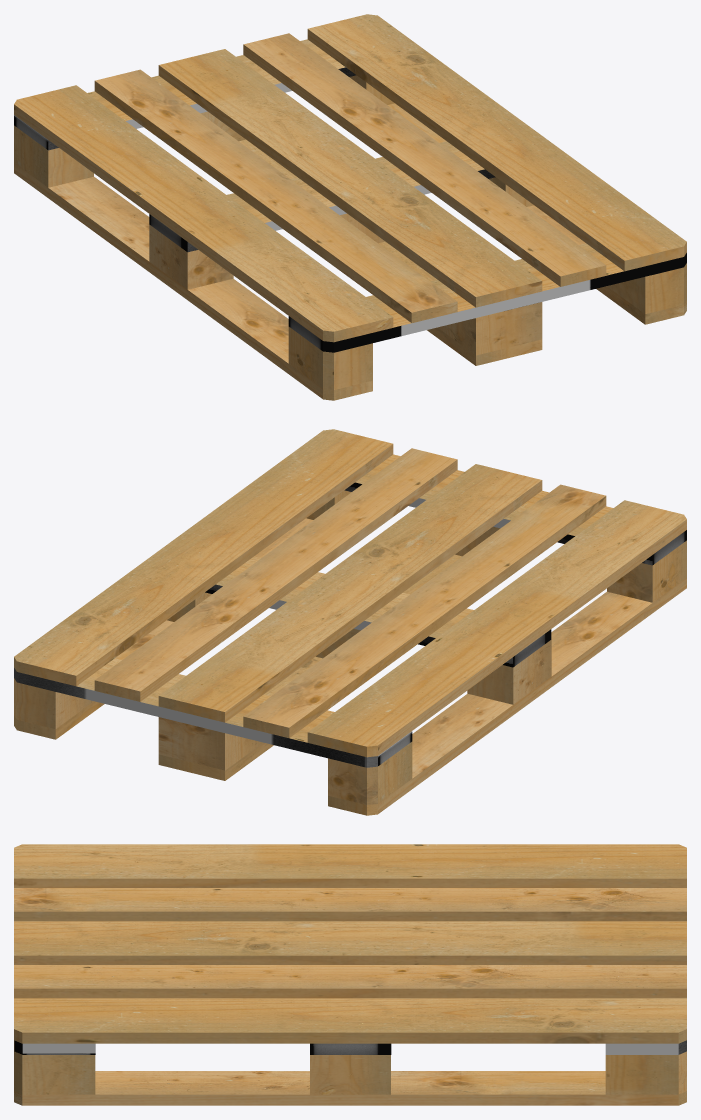
The model's file is pallet.obj.
3 renders of one model, top to bottom at view 1: azimuth 30°, elevation 25°; view 2: azimuth 150°, elevation 25°; view 3: azimuth 270°, elevation 25°, orthographic. The views are drawn at different scales.
Visible parts, largest first — view 1: Plane.002_Plane.006; view 2: Plane.002_Plane.006; view 3: Plane.002_Plane.006.
Part boxes in pixels (x1=…): Plane.002_Plane.006: x1=14, y1=14, x2=686, y2=400; Plane.002_Plane.006: x1=14, y1=429, x2=686, y2=815; Plane.002_Plane.006: x1=14, y1=844, x2=686, y2=1105.
Bounding box in the file's own units: 7.95 × 1.44 × 12.
